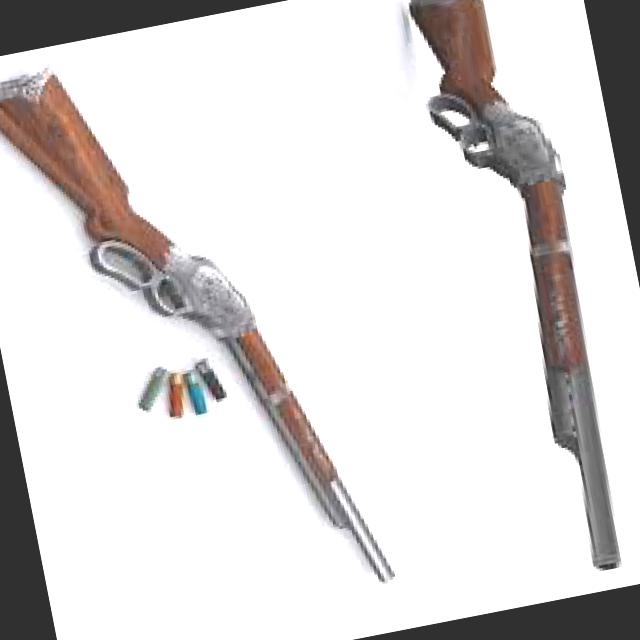long weapon: (0, 47, 454, 639), (400, 0, 640, 588)
